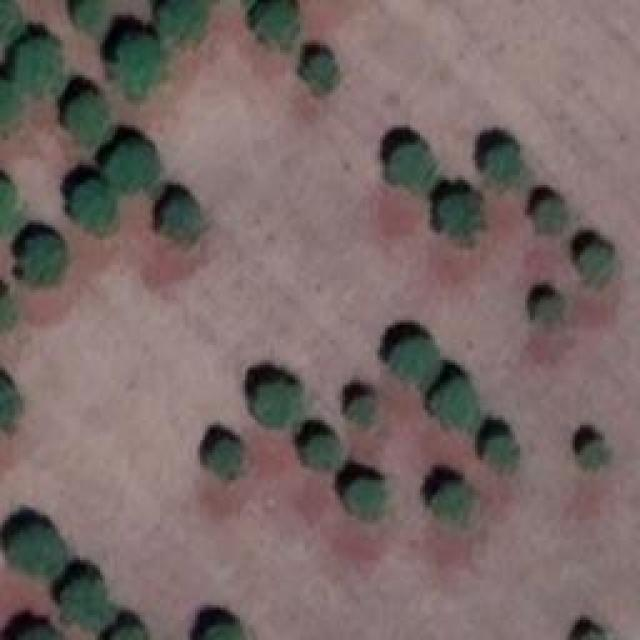Tree: (13, 518, 66, 581), (10, 35, 63, 95), (55, 575, 115, 628), (115, 30, 163, 93), (105, 138, 160, 191), (435, 372, 478, 430), (387, 138, 435, 188), (253, 378, 298, 431), (163, 195, 206, 250), (73, 178, 118, 228), (440, 192, 483, 240), (393, 337, 436, 385), (25, 233, 63, 283), (482, 427, 520, 475), (165, 0, 208, 40), (480, 143, 520, 186), (347, 478, 385, 523), (437, 483, 475, 526), (68, 93, 103, 138), (530, 193, 565, 238), (578, 240, 613, 285), (260, 0, 297, 42), (210, 433, 245, 476), (307, 432, 345, 470), (0, 375, 22, 435), (305, 52, 338, 90), (72, 0, 109, 32), (580, 440, 615, 470), (0, 180, 20, 230), (0, 80, 18, 133), (535, 290, 563, 323), (195, 622, 243, 640), (350, 392, 380, 420), (0, 0, 20, 38), (0, 292, 18, 330)
